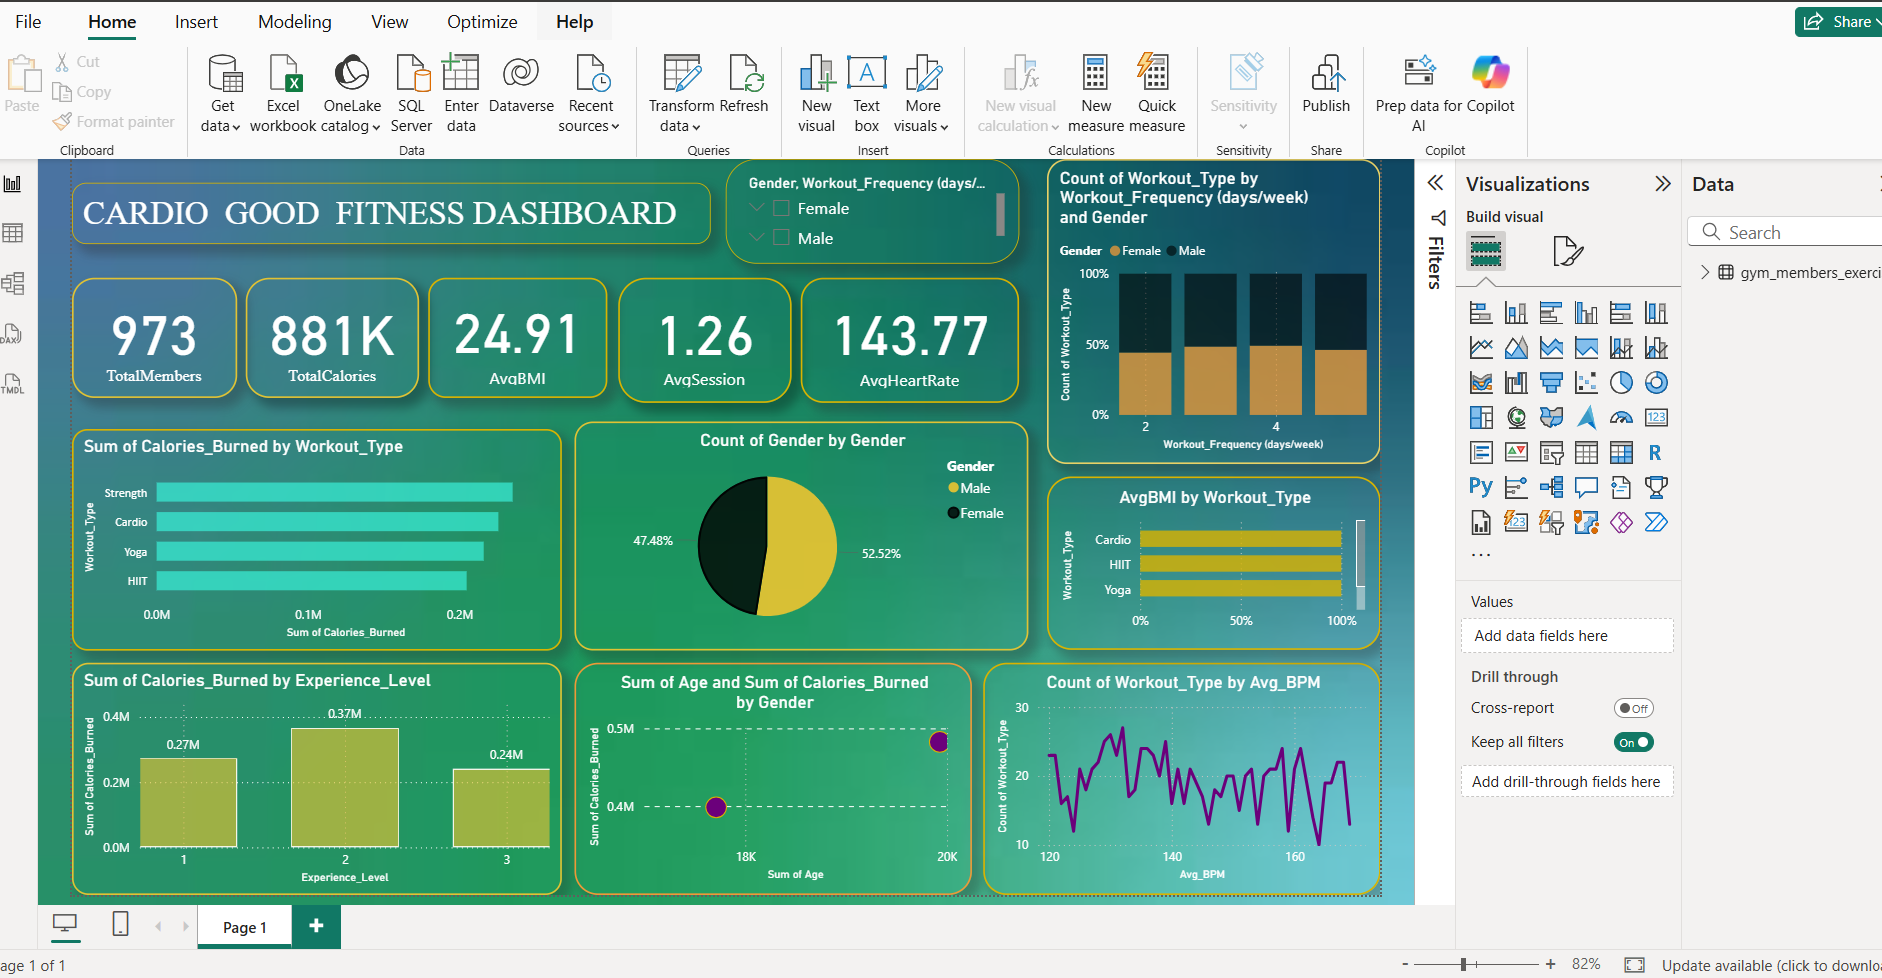

Layout of this report page (visuals, bound fields, positions):
{"tool":"powerbi","page":{"name":"Page 1","canvas":[1280,720],"ordinal":0},"visuals":[{"type":"card","fields":{"Values":["gym_members_exercise_tracking.TotalMembers"]},"box":[0,116.2,161.4,117.4],"z":0},{"type":"card","fields":{"Values":["gym_members_exercise_tracking.TotalCalories"]},"box":[170,116.2,170,117.4],"z":1000},{"type":"textbox","box":[0,23.2,624.9,59.9],"z":2000},{"type":"card","fields":{"Values":["gym_members_exercise_tracking.AvgBMI"]},"box":[348.5,116.2,174.9,117.4],"z":3000},{"type":"card","fields":{"Values":["gym_members_exercise_tracking.AvgSession"]},"box":[534.4,116.2,170,122.3],"z":4000},{"type":"card","fields":{"Values":["gym_members_exercise_tracking.AvgHeartRate"]},"box":[712.9,116.2,214,122.3],"z":5000},{"type":"barChart","fields":{"Category":["gym_members_exercise_tracking.Workout_Type"],"Y":["Sum(gym_members_exercise_tracking.Calories_Burned)"]},"box":[0,264.1,479.4,216.4],"z":6000},{"type":"pieChart","fields":{"Category":["gym_members_exercise_tracking.Gender"],"Y":["CountNonNull(gym_members_exercise_tracking.Gender)"]},"box":[491.6,256.8,443.9,223.8],"z":7000},{"type":"columnChart","fields":{"Y":["Sum(gym_members_exercise_tracking.Calories_Burned)"],"Category":["gym_members_exercise_tracking.Experience_Level"]},"box":[0,492.8,479.4,227.4],"z":8000},{"type":"hundredPercentStackedColumnChart","fields":{"Category":["gym_members_exercise_tracking.Workout_Frequency (days/week)"],"Series":["gym_members_exercise_tracking.Gender"],"Y":["CountNonNull(gym_members_exercise_tracking.Workout_Type)"]},"box":[953.8,0,326.5,298.4],"z":9000},{"type":"slicer","fields":{"Values":["gym_members_exercise_tracking.Gender","gym_members_exercise_tracking.Workout_Frequency (days/week)","gym_members_exercise_tracking.Experience_Level"]},"box":[639.5,0,287.4,102.7],"z":9001},{"type":"scatterChart","fields":{"X":["Sum(gym_members_exercise_tracking.Age)"],"Y":["Sum(gym_members_exercise_tracking.Calories_Burned)"],"Category":["gym_members_exercise_tracking.Gender"]},"box":[491.6,492.8,388.9,227.4],"z":9002},{"type":"lineChart","fields":{"Y":["CountNonNull(gym_members_exercise_tracking.Workout_Type)"],"Category":["gym_members_exercise_tracking.Avg_BPM"]},"box":[891.4,492.8,388.9,227.4],"z":9003},{"type":"hundredPercentStackedBarChart","fields":{"Category":["gym_members_exercise_tracking.Workout_Type"],"Y":["gym_members_exercise_tracking.AvgBMI"]},"box":[953.8,310.6,326.5,170],"z":9004}]}

Visuals, with their boxes on the page's 1280x720 design canvas (x1, y1, x2, y2). These are canvas units, not pixel positions in the 1882x978 screenshot, which may show the page scaled, cropped or inside an application window:
card - gym_members_exercise_tracking.TotalMembers: box(0, 116, 161, 234)
card - gym_members_exercise_tracking.TotalCalories: box(170, 116, 340, 234)
textbox: box(0, 23, 625, 83)
card - gym_members_exercise_tracking.AvgBMI: box(348, 116, 523, 234)
card - gym_members_exercise_tracking.AvgSession: box(534, 116, 704, 238)
card - gym_members_exercise_tracking.AvgHeartRate: box(713, 116, 927, 238)
barChart - gym_members_exercise_tracking.Workout_Type x Sum(gym_members_exercise_tracking.Calories_Burned): box(0, 264, 479, 480)
pieChart - gym_members_exercise_tracking.Gender x CountNonNull(gym_members_exercise_tracking.Gender): box(492, 257, 936, 481)
columnChart - Sum(gym_members_exercise_tracking.Calories_Burned) x gym_members_exercise_tracking.Experience_Level: box(0, 493, 479, 720)
hundredPercentStackedColumnChart - gym_members_exercise_tracking.Workout_Frequency (days/week) x gym_members_exercise_tracking.Gender: box(954, 0, 1280, 298)
slicer - gym_members_exercise_tracking.Gender x gym_members_exercise_tracking.Workout_Frequency (days/week): box(640, 0, 927, 103)
scatterChart - Sum(gym_members_exercise_tracking.Age) x Sum(gym_members_exercise_tracking.Calories_Burned): box(492, 493, 880, 720)
lineChart - CountNonNull(gym_members_exercise_tracking.Workout_Type) x gym_members_exercise_tracking.Avg_BPM: box(891, 493, 1280, 720)
hundredPercentStackedBarChart - gym_members_exercise_tracking.Workout_Type x gym_members_exercise_tracking.AvgBMI: box(954, 311, 1280, 481)
